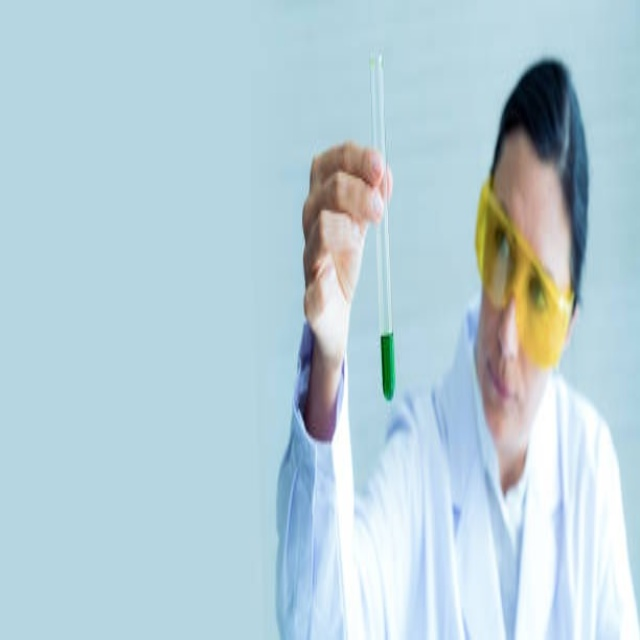Gafas: (474, 173, 574, 372)
Sin_guantes: (303, 132, 395, 392)
Sin_mascara: (481, 348, 524, 435)
